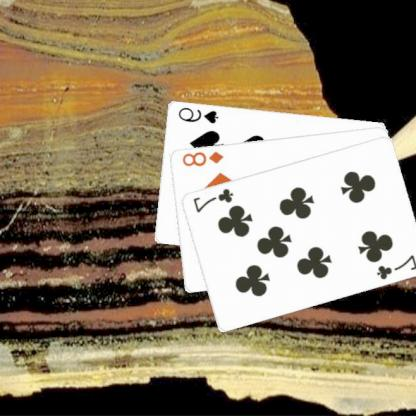7C: (192, 186, 236, 214), (375, 251, 416, 280)
8D: (181, 148, 227, 167)
9S: (176, 104, 222, 125)
